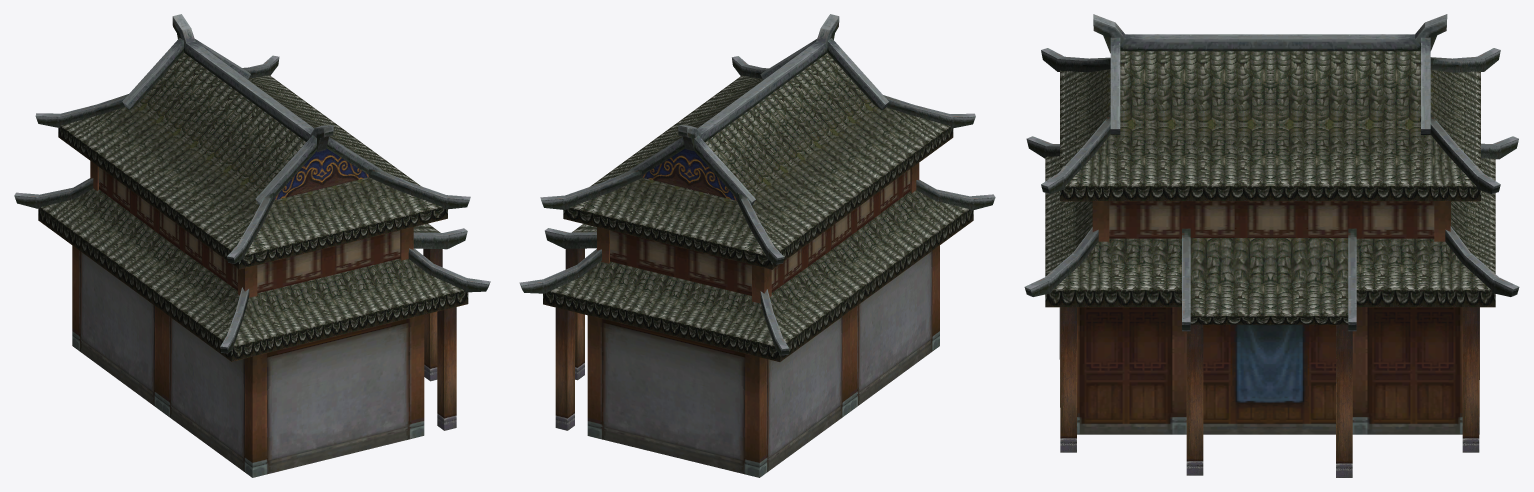
File: Hangzhou_wj_036.FBX
3 views of the same model, side by side, from view 1: azimuth 30°, elevation 25°; view 2: azimuth 150°, elevation 25°; view 3: azimuth 270°, elevation 25° (orthographic). The views are drawn at different scales.
Visible parts, largest first — view 1: Object17a; view 2: Object17a; view 3: Object17a.
Boxes of the visible parts, bbox=[...] form: Object17a: bbox=[14, 14, 490, 477]; Object17a: bbox=[519, 14, 995, 477]; Object17a: bbox=[1024, 14, 1519, 477].
Bounding box in the file's own units: 8.56 × 8.37 × 10.1.
Materials: 1 (1 with a texture image).
